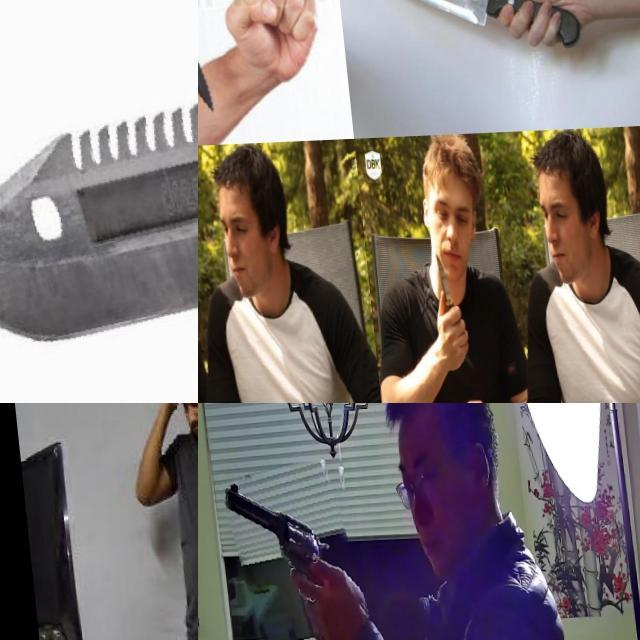-: (0, 0, 198, 403), (198, 0, 253, 137), (347, 0, 521, 43), (419, 252, 458, 350), (198, 262, 217, 361)
gun-knife-thesis - v11 Yolov5 augmented: (217, 462, 361, 640)
